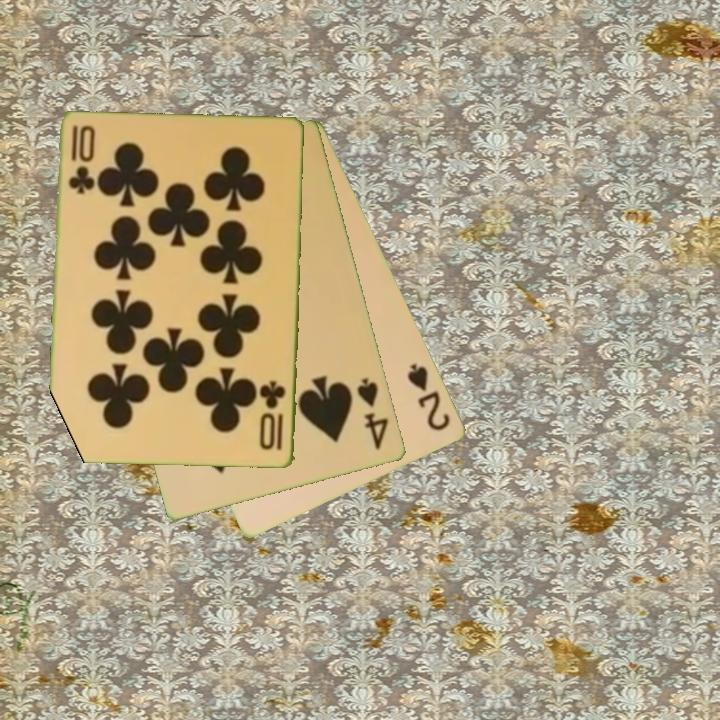10c: (257, 378, 289, 454), (65, 122, 95, 198)
2s: (404, 360, 454, 434)
4s: (354, 374, 392, 453)
